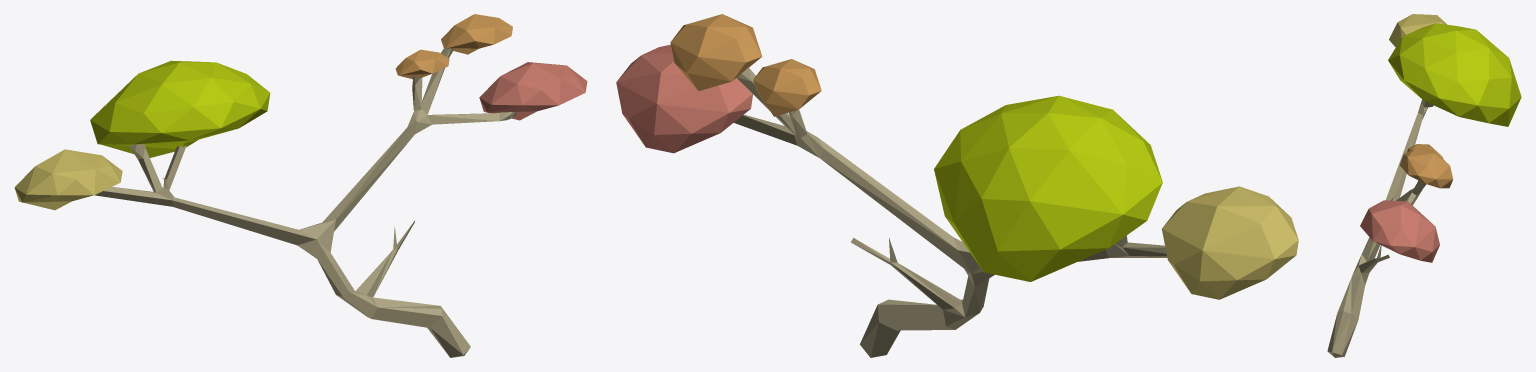
The model's file is Savanna_Tree_model_1.fbx.
3 renders of one model, left to right at view 1: azimuth 30°, elevation 25°; view 2: azimuth 150°, elevation 25°; view 3: azimuth 270°, elevation 25°, orthographic. The views are drawn at different scales.
Visible parts, largest first — view 1: Lemon Bush; view 2: Lemon Bush; view 3: Lemon Bush.
Part boxes in pixels (x1,y1,x2,y2): Lemon Bush: (14,14,587,357); Lemon Bush: (616,14,1298,357); Lemon Bush: (1327,14,1521,357).
Size of the model in its own units: 809 by 415 by 302.
